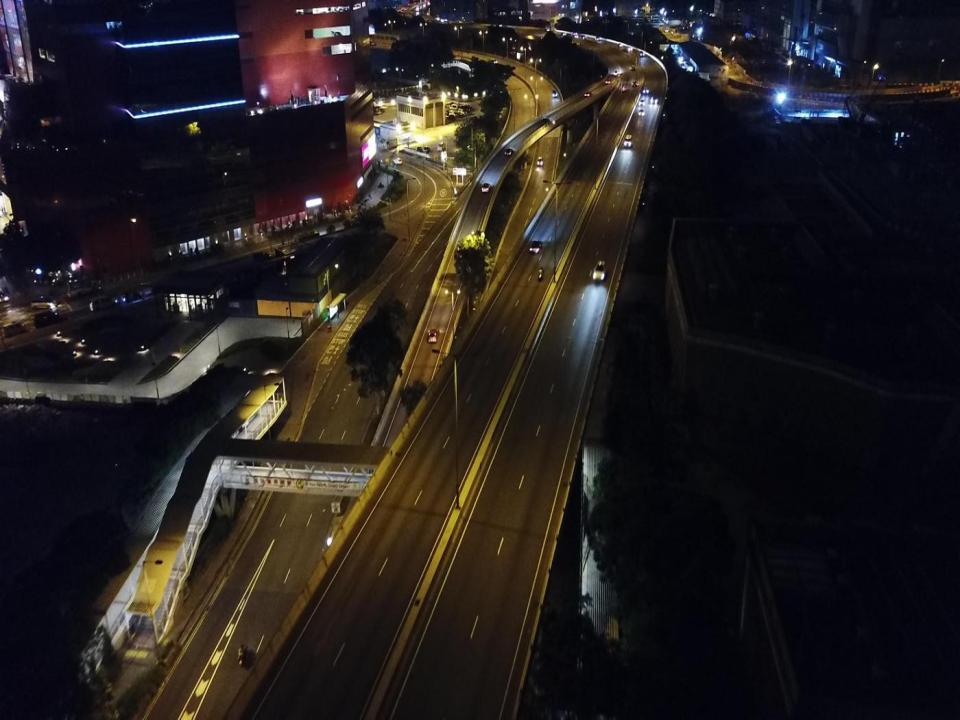bus: (67, 279, 101, 297), (644, 15, 660, 22), (631, 15, 644, 22)
car: (592, 260, 605, 280), (122, 290, 141, 302), (529, 239, 543, 254), (428, 327, 439, 343), (255, 252, 272, 262), (481, 183, 491, 192), (393, 157, 402, 165), (505, 148, 513, 156), (650, 96, 658, 104), (537, 156, 542, 166), (552, 90, 558, 98), (584, 91, 592, 97), (424, 146, 430, 153), (490, 58, 497, 64), (642, 87, 648, 94), (376, 106, 384, 111), (462, 106, 470, 111), (416, 147, 422, 153), (639, 51, 645, 57), (638, 110, 644, 116), (463, 105, 471, 109), (621, 85, 626, 91), (380, 105, 387, 109), (594, 36, 601, 40), (625, 46, 632, 50), (632, 82, 637, 87), (617, 43, 623, 47), (605, 79, 611, 83), (375, 111, 382, 114), (664, 27, 668, 32), (561, 32, 566, 36), (631, 66, 636, 70), (640, 100, 644, 105), (580, 35, 586, 38), (545, 28, 550, 31), (572, 32, 577, 35), (572, 35, 578, 37)
van: (34, 310, 59, 330), (89, 297, 115, 311), (3, 321, 24, 337), (624, 134, 632, 147), (448, 103, 459, 111), (437, 142, 445, 150), (458, 109, 467, 115), (449, 111, 457, 117)
